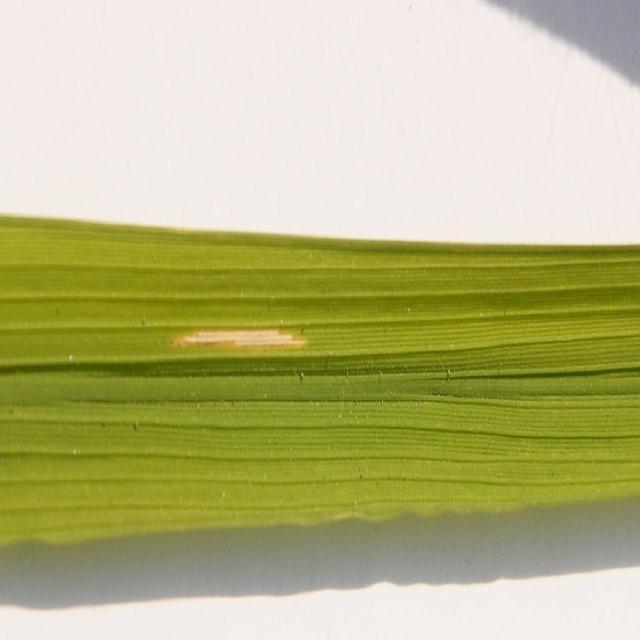bacterial_leaf_blight: (175, 329, 305, 347)
